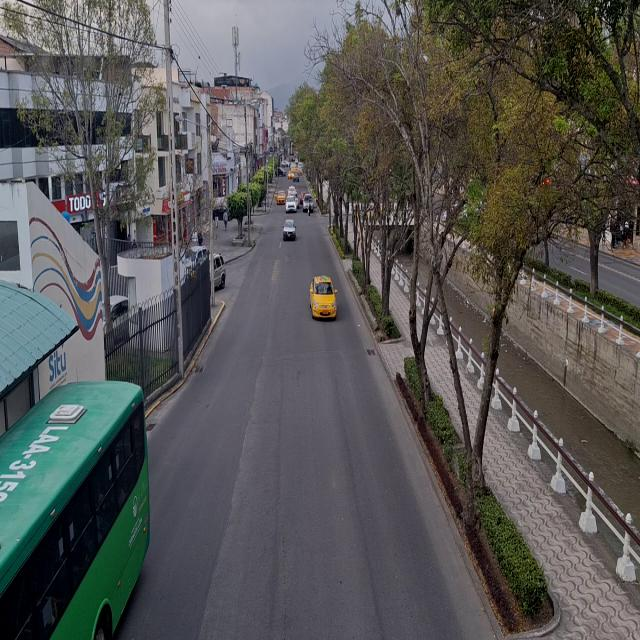BUS: (0, 391, 138, 640)
SED: (311, 278, 336, 318)
